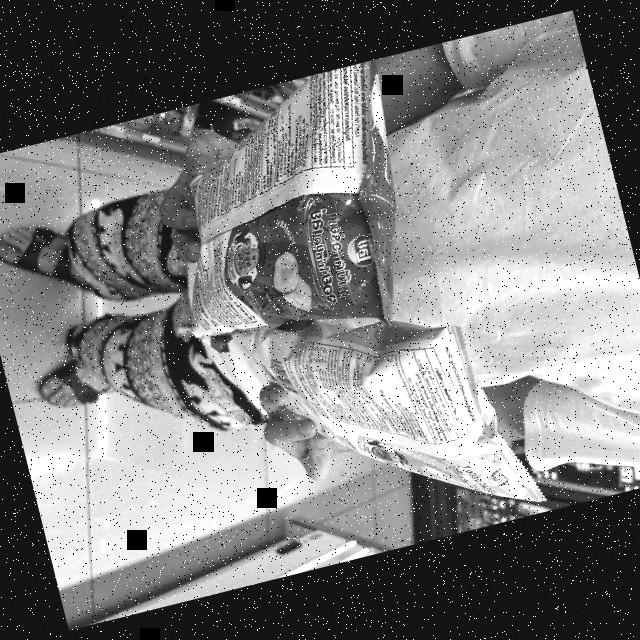snack_bag: (209, 260, 548, 570), (134, 59, 438, 354)
